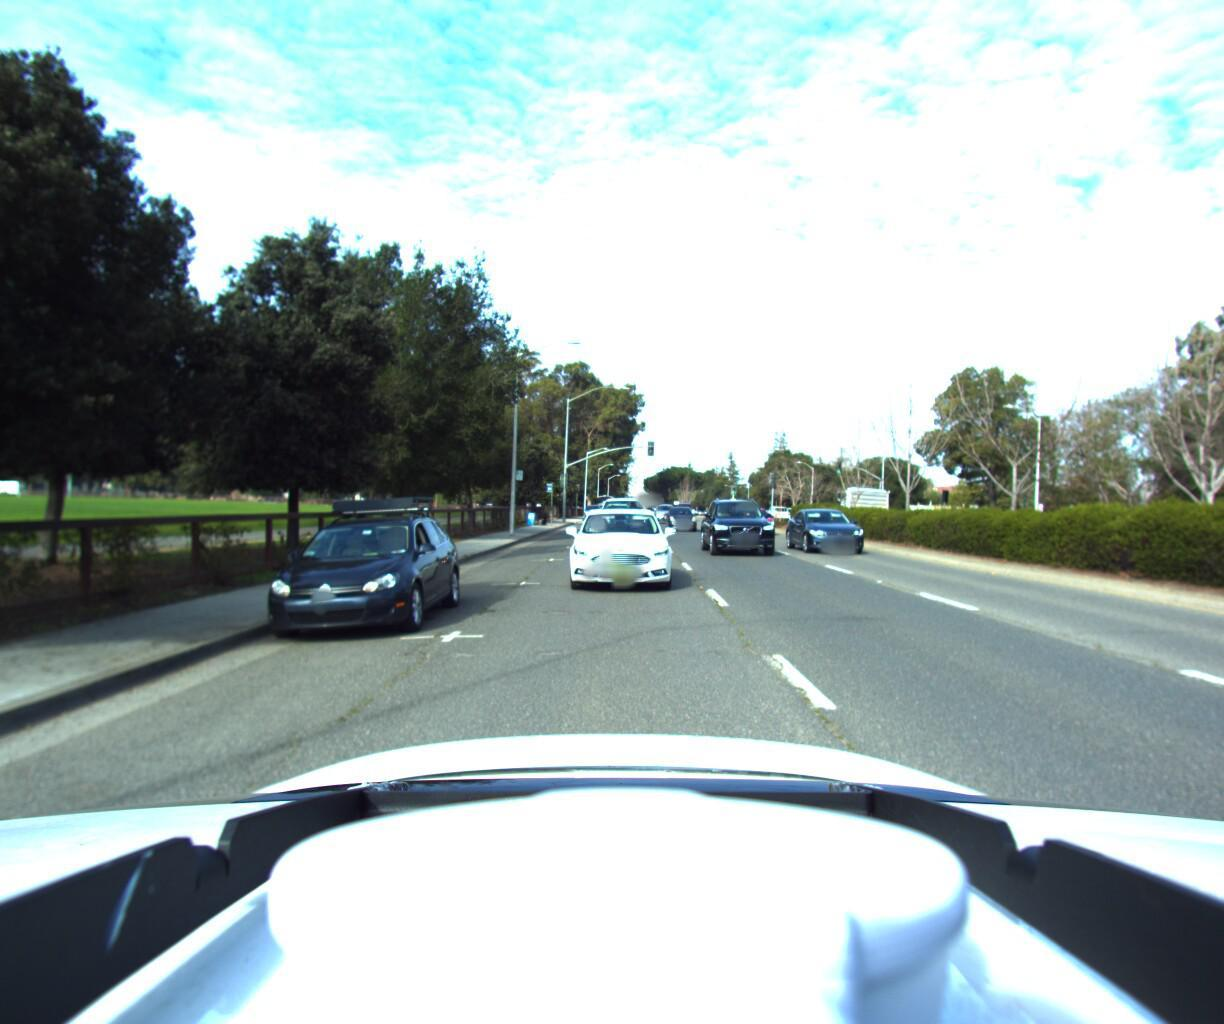car: (254, 490, 471, 652), (567, 500, 675, 594), (702, 493, 786, 560), (787, 504, 882, 556), (593, 493, 644, 539), (665, 502, 703, 533), (652, 505, 678, 524), (582, 504, 603, 521)
truck: (828, 466, 934, 535)
